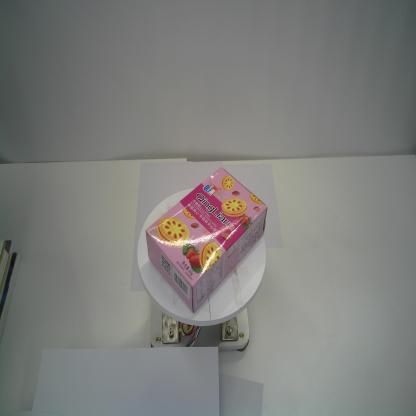Dessert: (143, 164, 269, 316)
